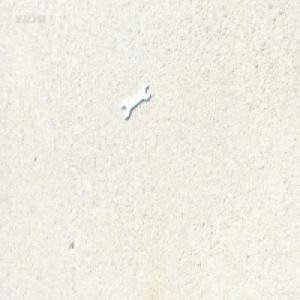Wrench: (121, 83, 151, 119)
